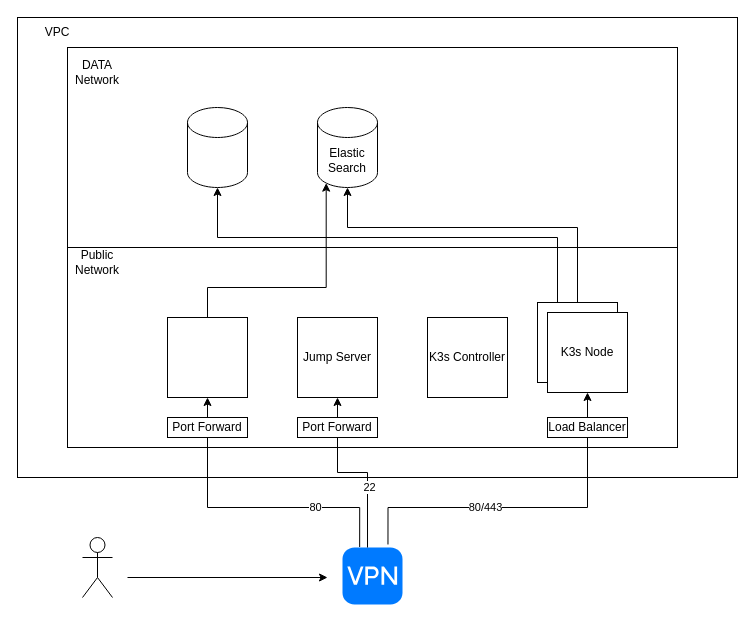
Some shapes in this 755 by 639 pixel diagram are drawn without their labels. Each missing label, with the centre of its shape:
Actor: [97,567]
Kibana Server: [207,357]
MySql: [217,147]
Warp VPN: [372,575]
